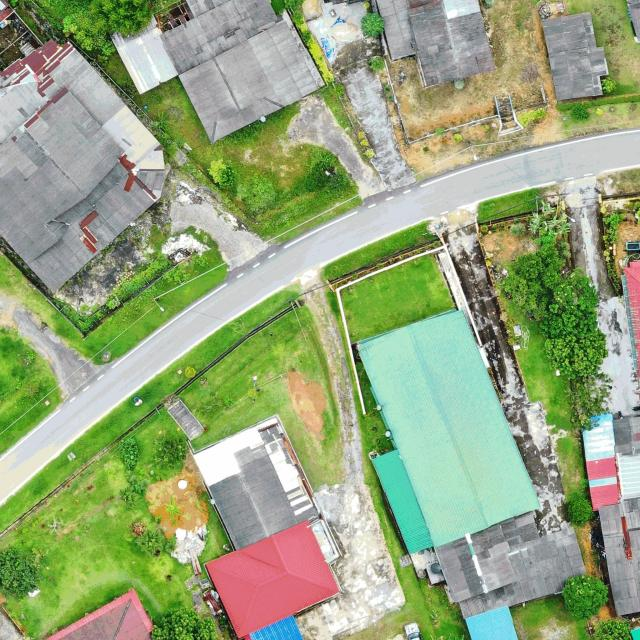Tree: (62, 0, 154, 56), (501, 243, 566, 313), (541, 269, 599, 334), (543, 328, 609, 379), (564, 372, 614, 432), (149, 605, 218, 640), (560, 572, 610, 620), (0, 543, 40, 600), (154, 435, 187, 467), (565, 494, 595, 526), (590, 618, 632, 640), (208, 158, 236, 190), (134, 526, 164, 554), (359, 11, 385, 37), (602, 212, 621, 246), (569, 103, 590, 123), (599, 74, 618, 94), (367, 55, 387, 73)
